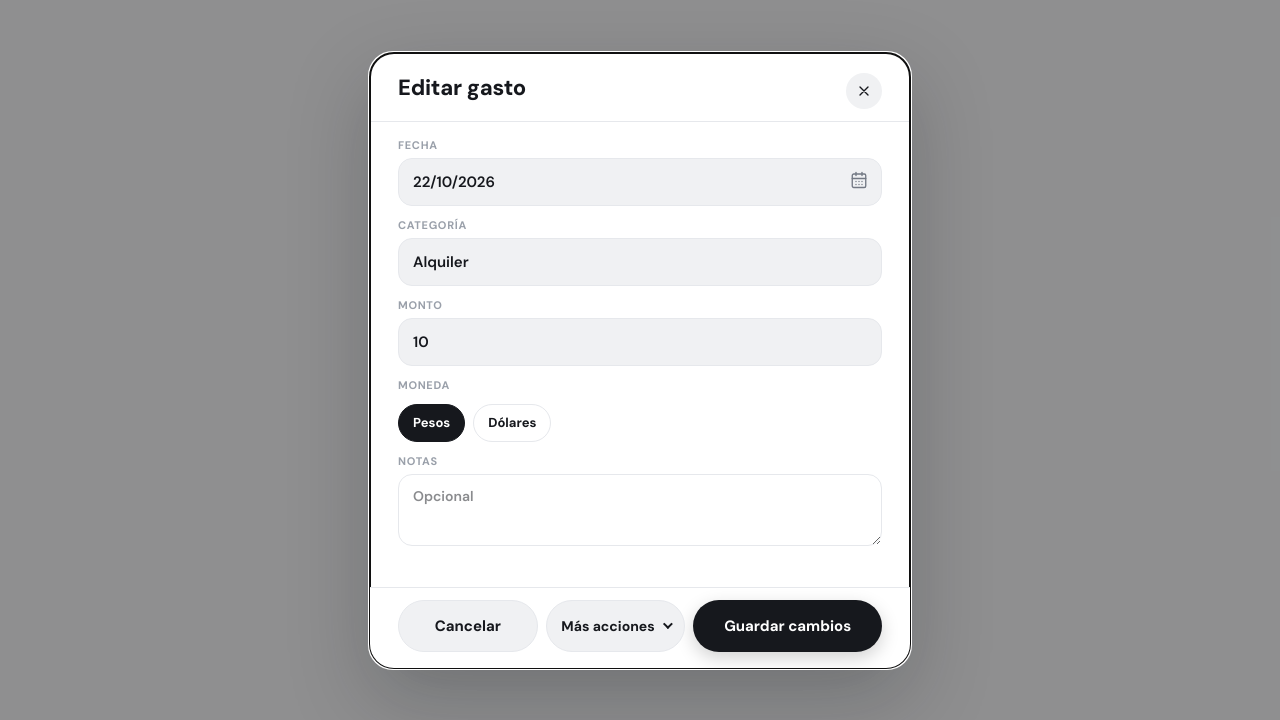
Scenario: archived list rows at 390px › keeps the reason and modal open after an archive failure
Step 1. Click the heading "Más acciones" → (616, 626), box [546,600,685,652]
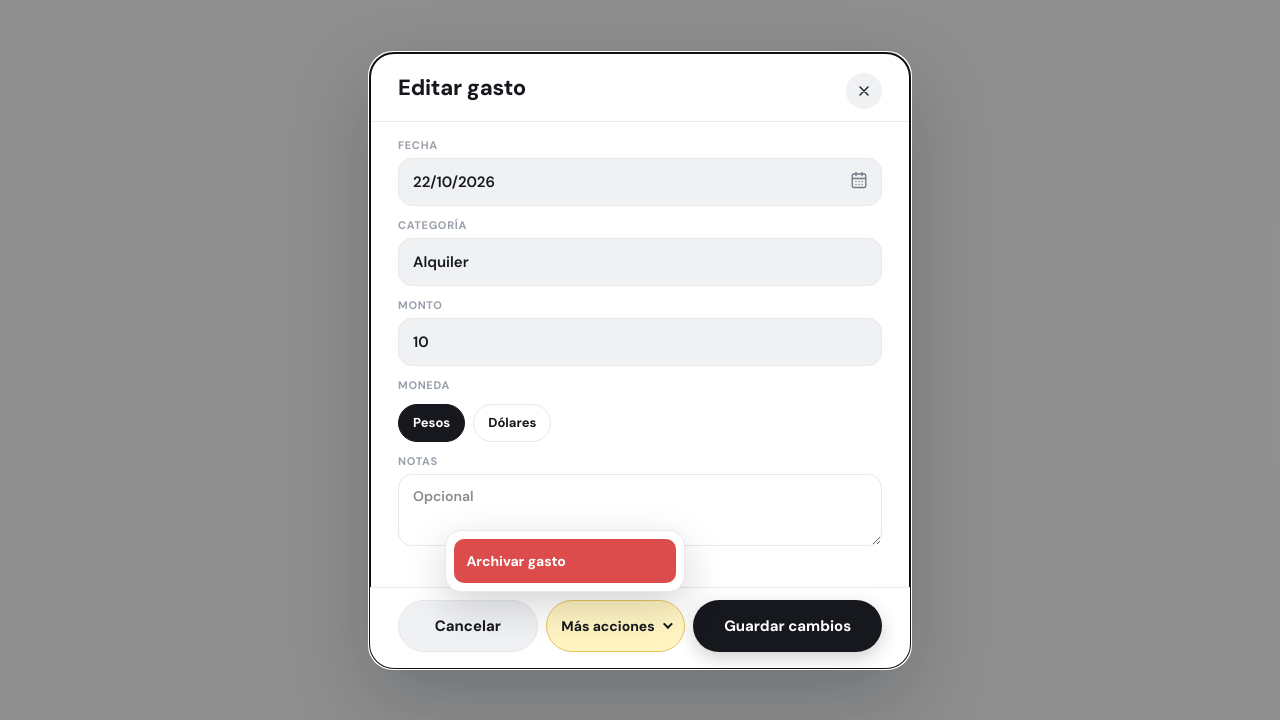
Step 2. Click the button "Archivar gasto" → (565, 560), box [454,538,676,582]
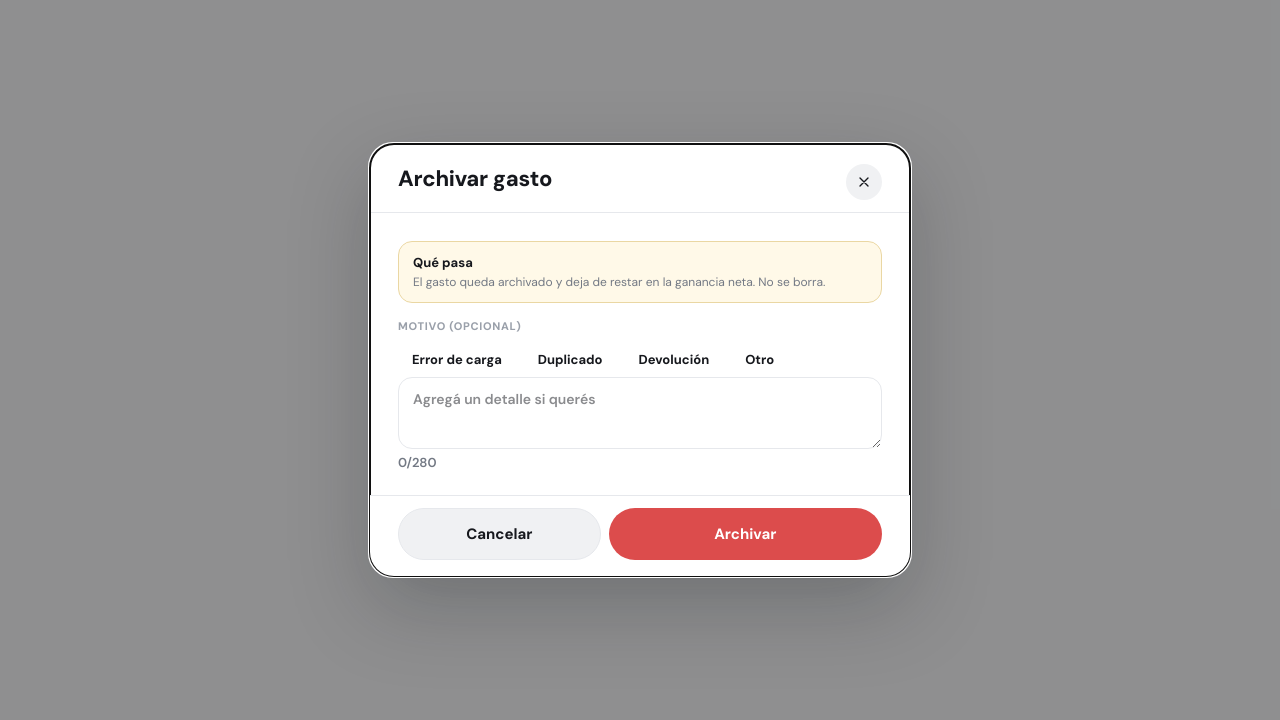
Step 3. Click the button "Duplicado" → (570, 359), box [524,341,616,377]
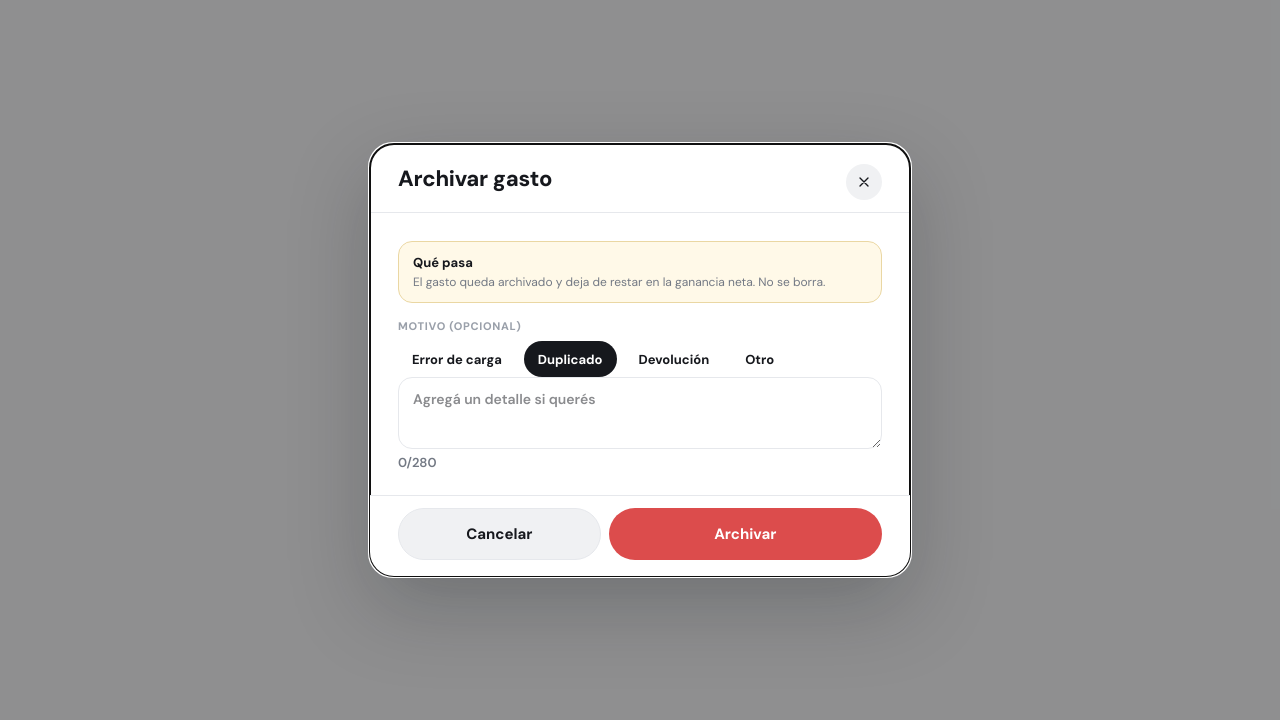
Step 4. Type "Carga repetida" into the text box labelled "detalle" → (640, 413), box [398,377,882,449]
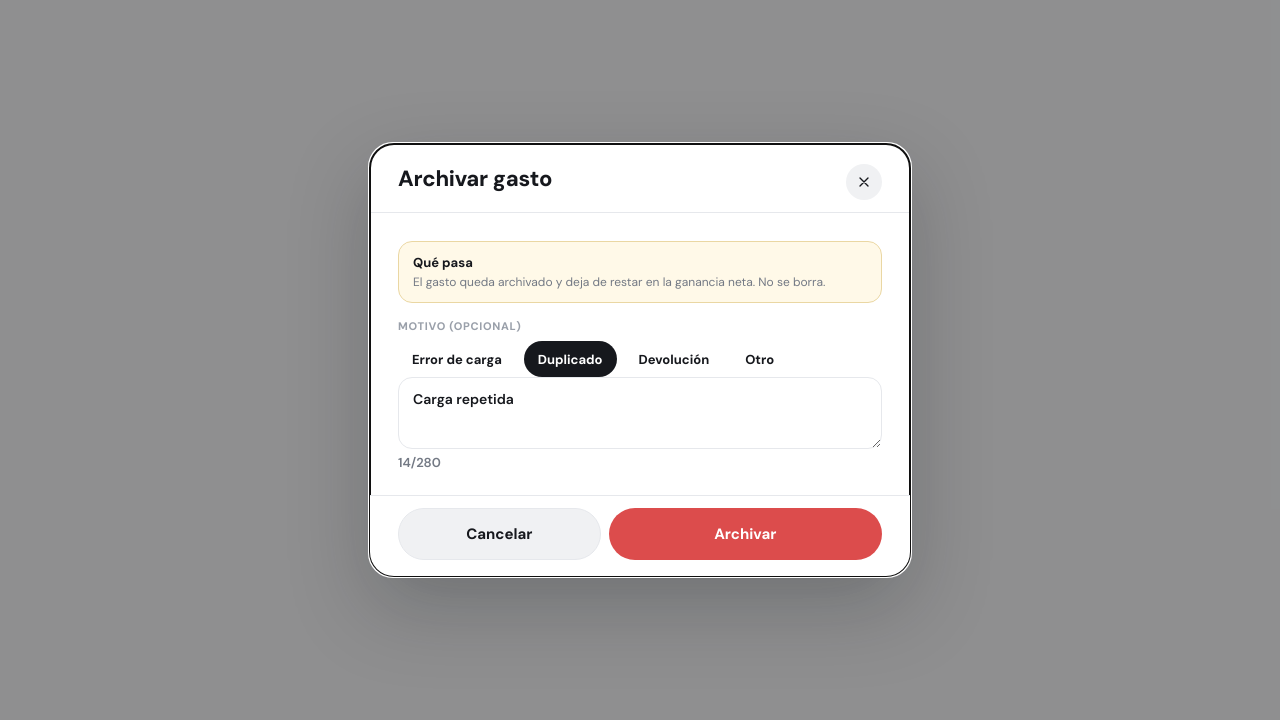
Step 5. Click the button "Archivar" → (745, 534), box [608,508,882,560]
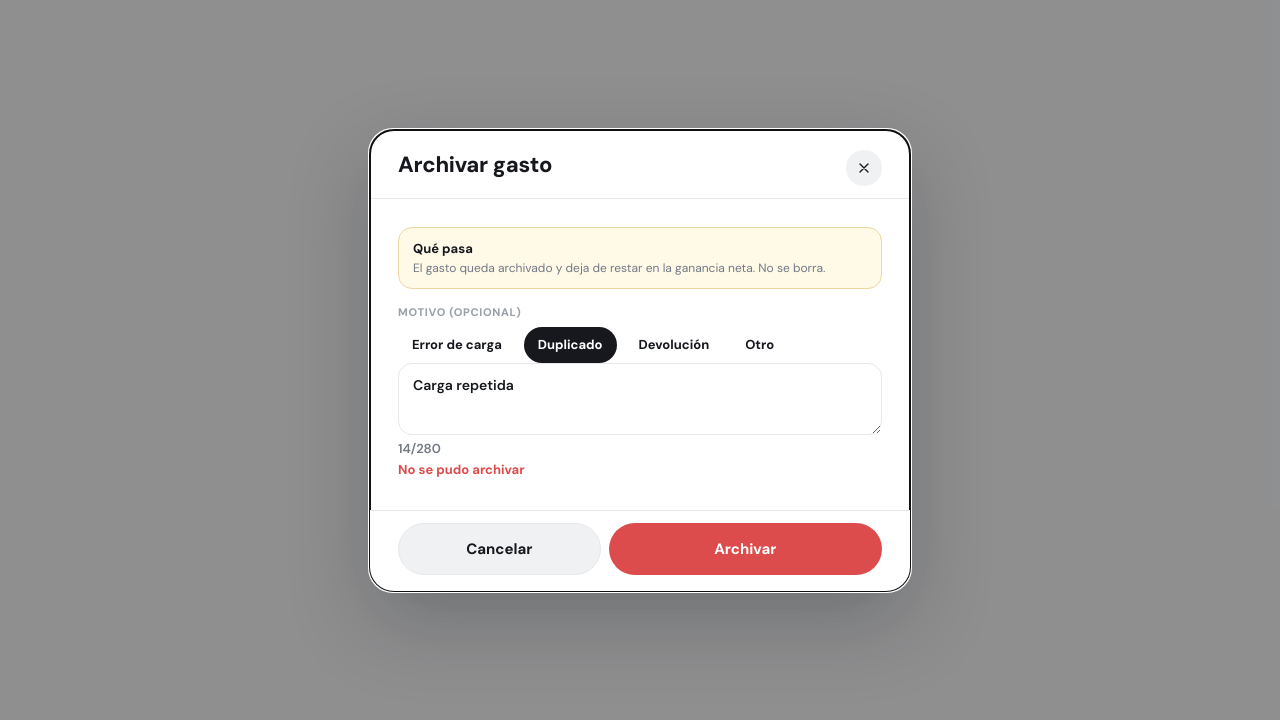
expect the message reads "No se pudo archivar": met, box [398,460,524,478]
